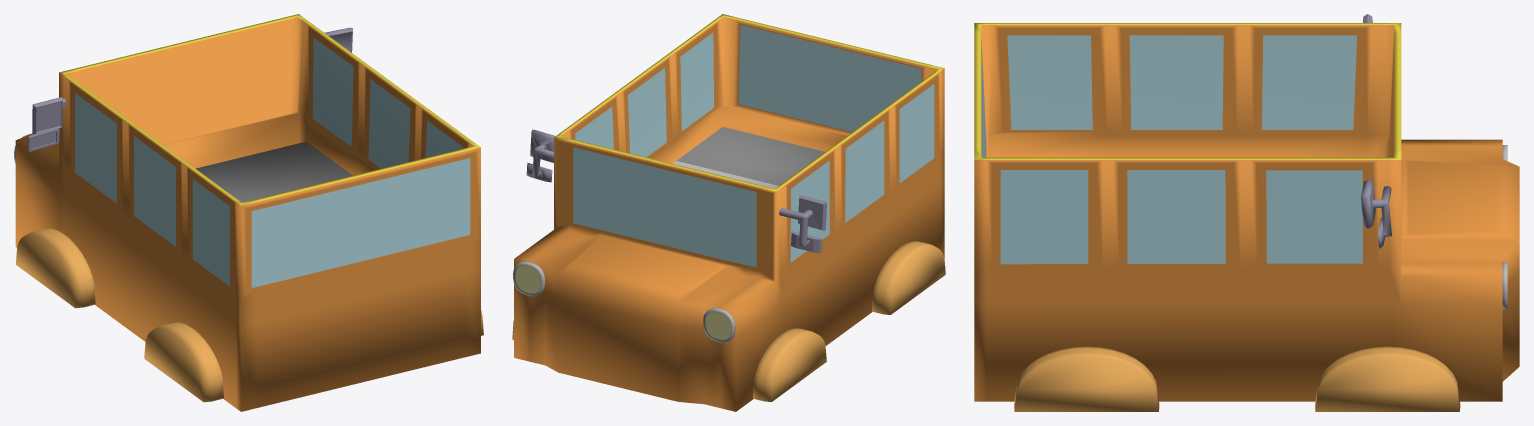
The model's file is bus_last.fbx.
3 views of the same model, side by side, from view 1: azimuth 30°, elevation 25°; view 2: azimuth 150°, elevation 25°; view 3: azimuth 270°, elevation 25° (orthographic). The views are drawn at different scales.
Visible parts, largest first — view 1: right mirror.002; view 2: right mirror.002; view 3: right mirror.002.
Boxes of the visible parts, x1,y1,x2,y2 form: right mirror.002: (14,14,483,411); right mirror.002: (512,14,945,411); right mirror.002: (974,14,1519,411).
Size of the model in its own units: 352 by 217 by 445.
